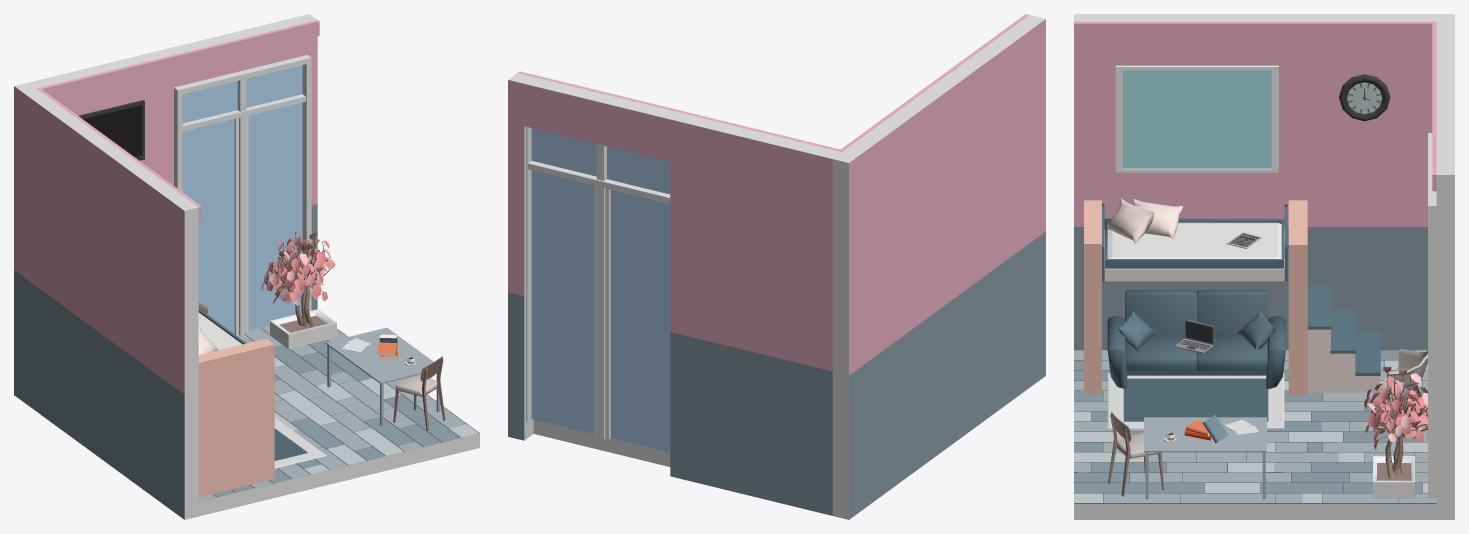
File: room_11.glb
3 views of the same model, side by side, from view 1: azimuth 30°, elevation 25°; view 2: azimuth 150°, elevation 25°; view 3: azimuth 270°, elevation 25° (orthographic). The views are drawn at different scales.
Visible parts, largest first — view 1: Walls_158.002, window_009.001, Walls_116.011, floor_010.002, bed_018.001, Walls_158.001, Walls_011.006, flower_017.001, Walls_159.001, Walls_158.004, kitchen_table_007.003, electronics_027.003 (+4 smaller); view 2: Walls_158.002, window_009.001, Walls_158.001, Walls_116.011, Walls_116.012, Walls_158.004, Walls_158.003, Walls_116.010, Walls_011.006, Walls_159.001, Walls_159.002; view 3: Walls_158.002, bed_018.001, floor_010.002, picture_041.003, Walls_116.011, sofa_022.001, Walls_011.006, carpet_004.003, Walls_159.002, flower_017.001, Walls_158.003, kitchen_table_007.003 (+10 smaller).
Boxes of the visible parts, box(x1,y1,x2,y2) form: Walls_158.002: box(14, 82, 198, 394); window_009.001: box(174, 55, 311, 335); Walls_116.011: box(14, 270, 198, 519); floor_010.002: box(198, 326, 478, 501); bed_018.001: box(198, 308, 274, 497); Walls_158.001: box(28, 48, 176, 185); Walls_011.006: box(198, 328, 479, 516); flower_017.001: box(260, 229, 336, 348); Walls_159.001: box(36, 20, 319, 99); Walls_158.004: box(169, 17, 303, 86); kitchen_table_007.003: box(325, 327, 440, 425); electronics_027.003: box(78, 100, 144, 160); Walls_158.002: box(832, 15, 1045, 375); window_009.001: box(526, 127, 670, 452); Walls_158.001: box(670, 112, 841, 371); Walls_116.011: box(832, 231, 1045, 519); Walls_116.012: box(670, 332, 832, 515); Walls_158.004: box(524, 77, 679, 161); Walls_158.003: box(508, 73, 532, 295); Walls_116.010: box(508, 292, 533, 440); Walls_011.006: box(533, 419, 670, 466); Walls_159.001: box(518, 71, 843, 151); Walls_159.002: box(841, 14, 1028, 150); Walls_158.002: box(1074, 14, 1454, 226); bed_018.001: box(1084, 198, 1380, 394); floor_010.002: box(1074, 350, 1436, 502); picture_041.003: box(1115, 65, 1278, 172); Walls_116.011: box(1074, 227, 1427, 350); sofa_022.001: box(1107, 290, 1285, 388); Walls_011.006: box(1074, 350, 1436, 519); carpet_004.003: box(1107, 373, 1284, 428); Walls_159.002: box(1074, 21, 1432, 39); flower_017.001: box(1364, 366, 1427, 498); Walls_158.003: box(1436, 167, 1454, 380); kitchen_table_007.003: box(1144, 417, 1266, 499).
Bounding box in the file's own units: 4.2 × 4.2 × 4.2.
1 material, 1 textured.
